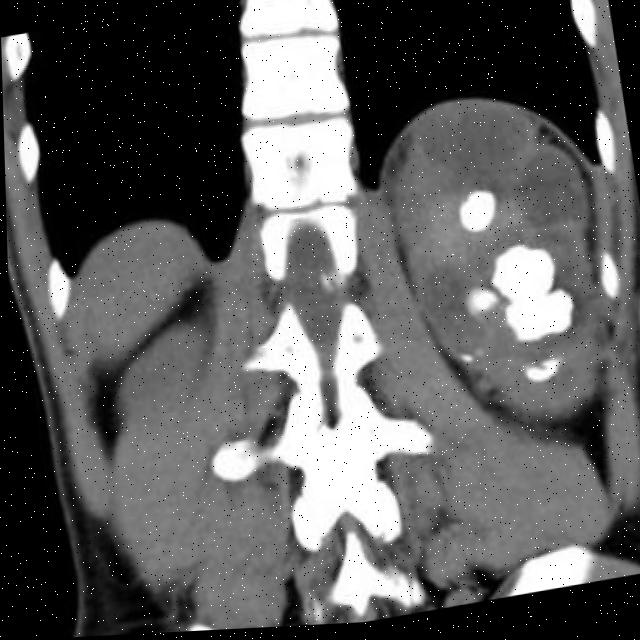Tas_Var: (479, 239, 560, 312), (495, 288, 578, 352), (448, 175, 503, 250), (454, 282, 502, 327), (515, 353, 568, 391), (451, 350, 470, 372), (470, 349, 486, 363)
